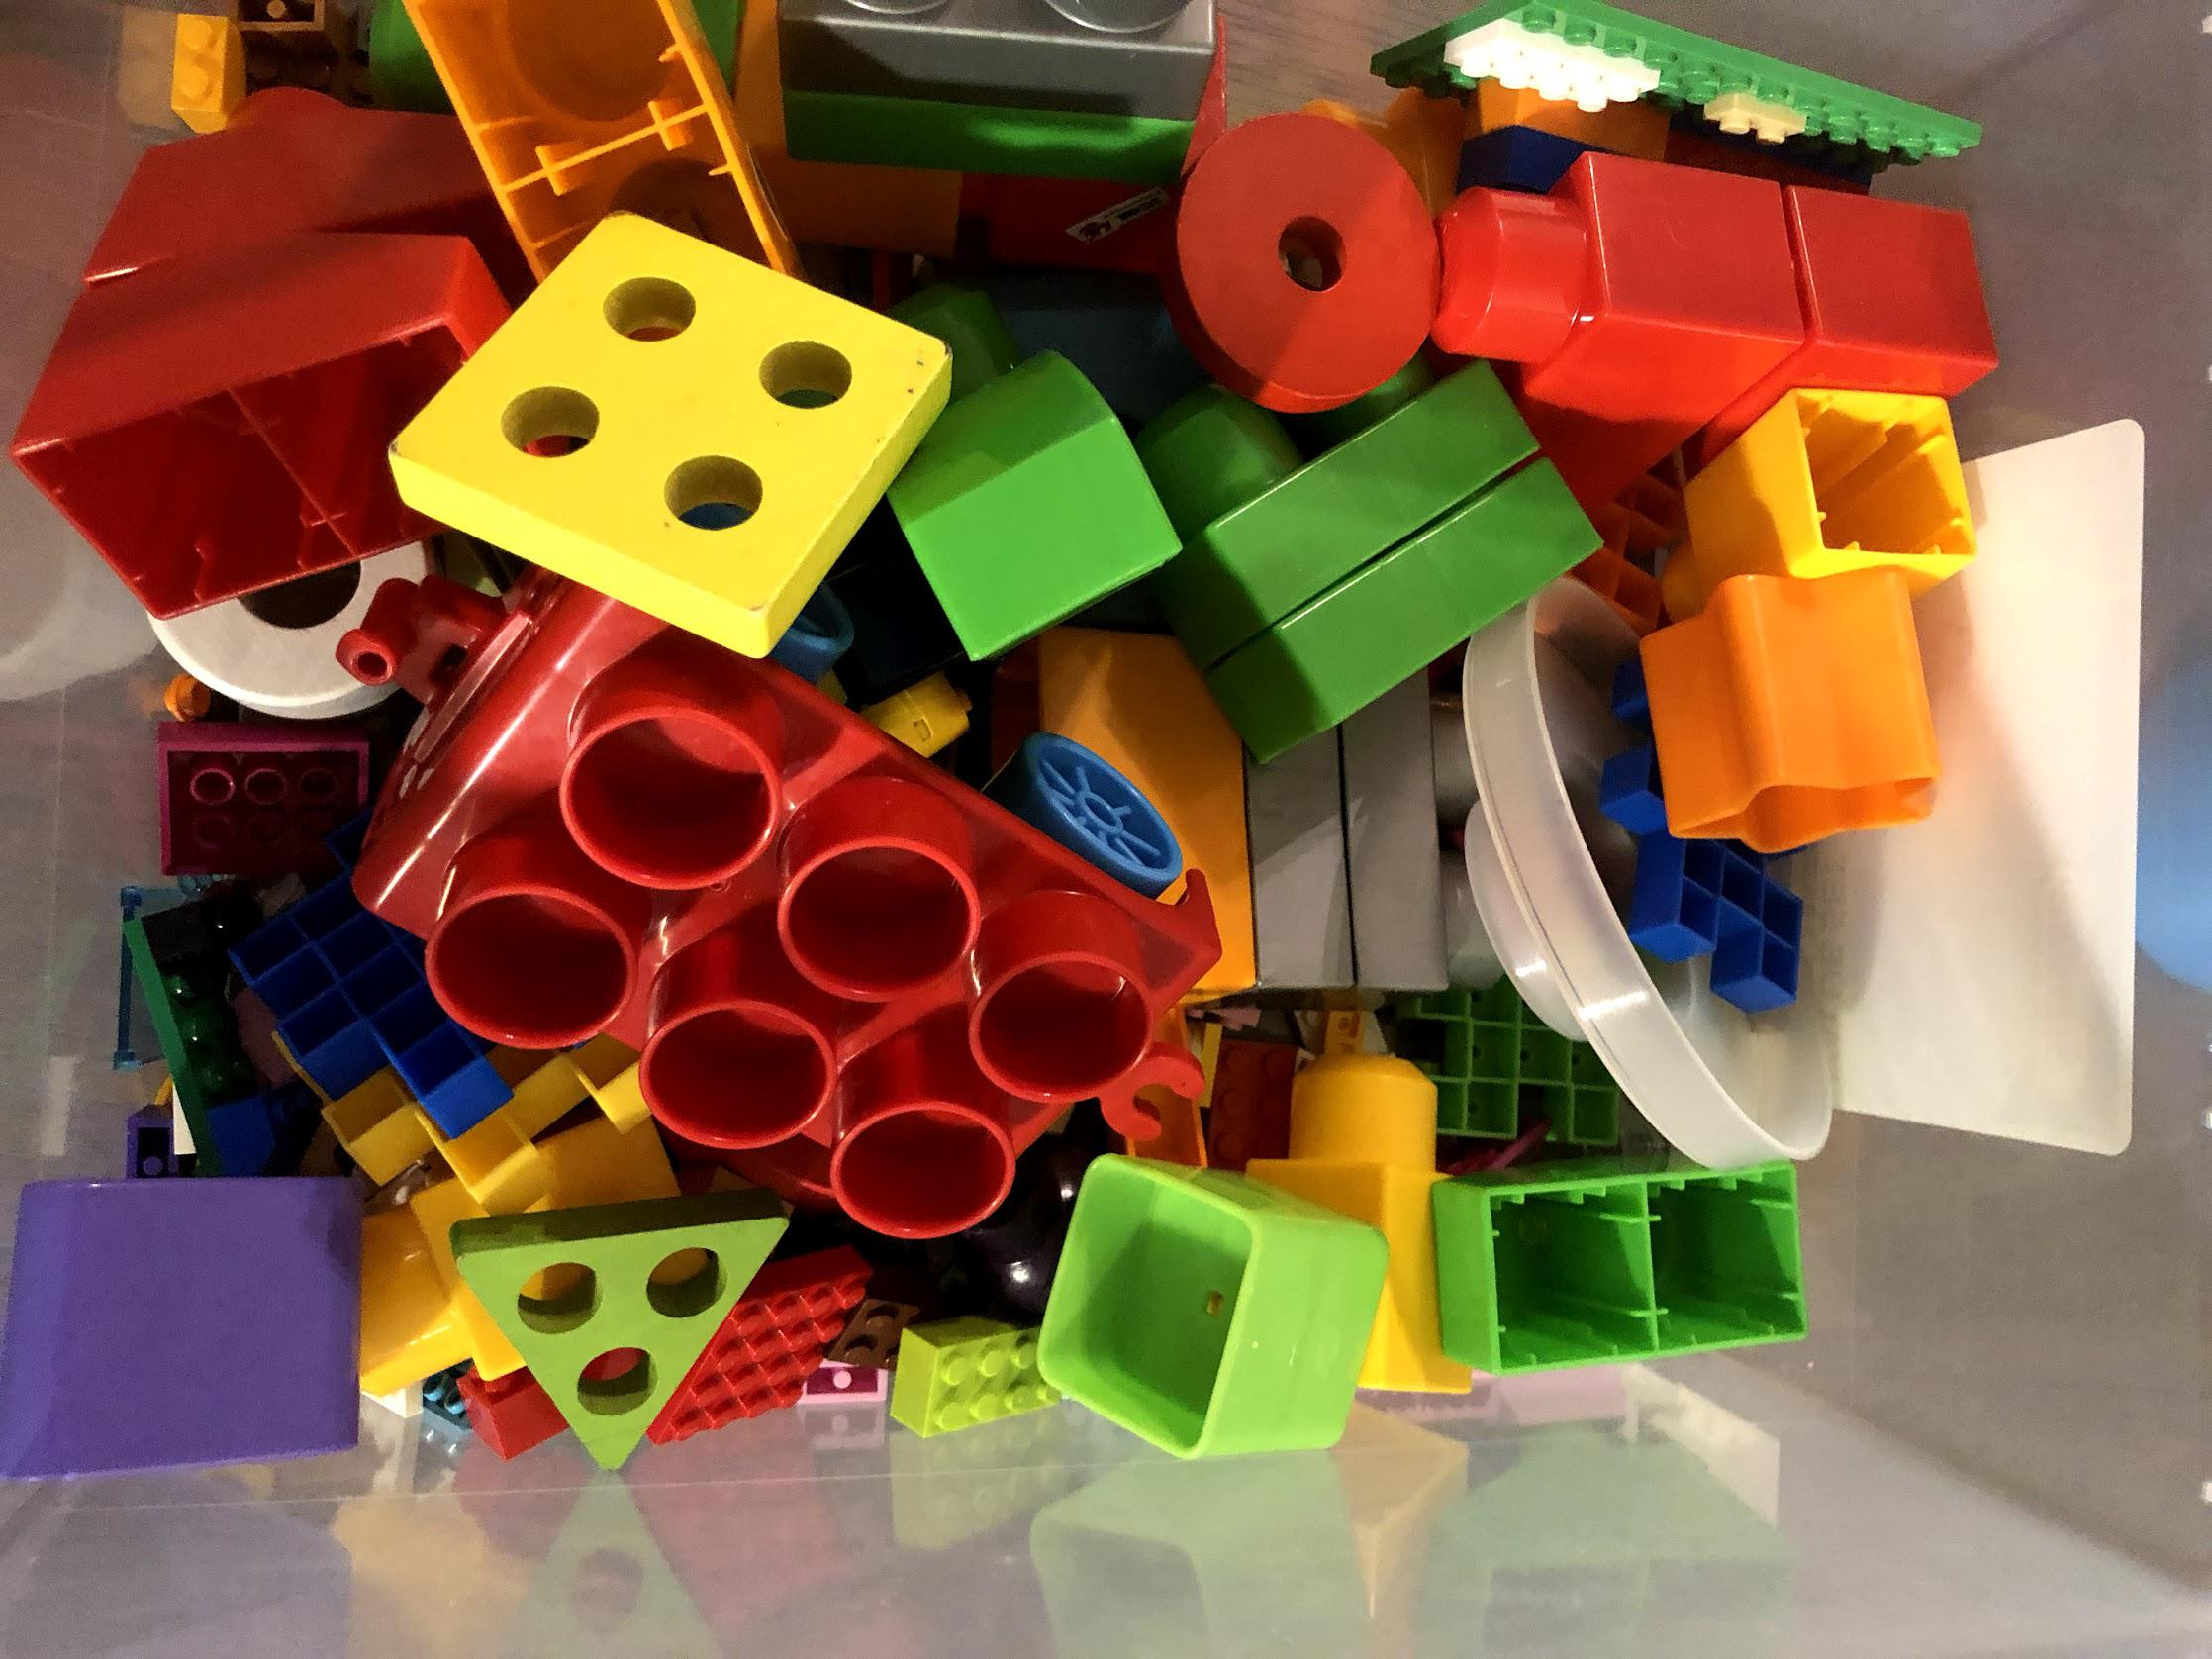Circle: (1172, 106, 1442, 416)
Square: (392, 207, 953, 655)
Triangle: (448, 1213, 794, 1476)
